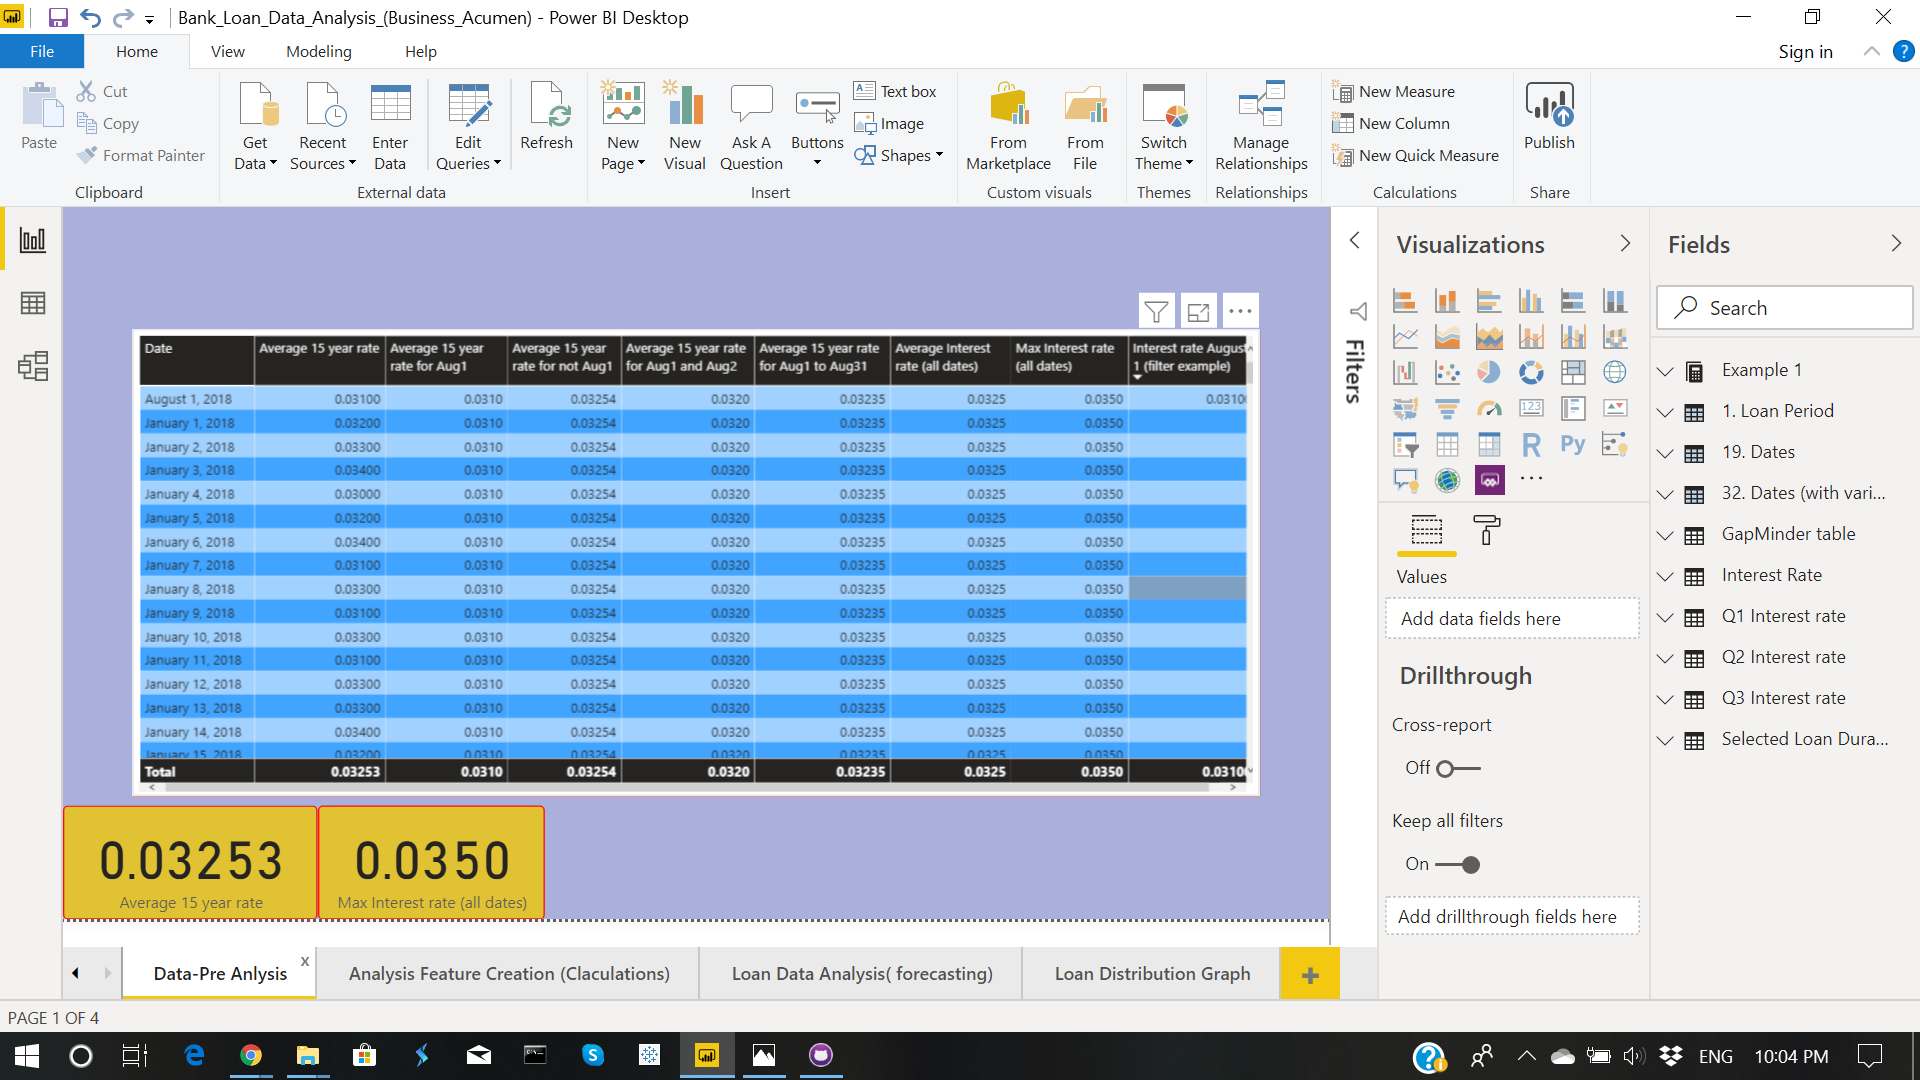

What the dashboard file says about the page in this screenshot:
{"tool":"powerbi","page":{"name":"Data-Pre Anlysis","canvas":[1280,720],"ordinal":0},"visuals":[{"type":"tableEx","fields":{"Values":["Interest Rate.Date","Interest Rate.Average 15 year rate","Interest Rate.Average 15 year rate for Aug1","Interest Rate.Average 15 year rate for not Aug1","Interest Rate.Average 15 year rate for Aug1 and Aug2","Interest Rate.Average 15 year rate for Aug1 to Aug31","Interest Rate.Average Interest rate (all dates)","Interest Rate.Max Interest rate (all dates)","Interest Rate.Interest rate August 1 (filter wxample)"]},"box":[69.8,122.8,1140.5,473.2],"z":0},{"type":"card","fields":{"Values":["Interest Rate.Average 15 year rate"]},"box":[0,604.9,257.4,115.2],"z":1000},{"type":"card","fields":{"Values":["Interest Rate.Max Interest rate (all dates)"]},"box":[257.8,605.1,229,115.3],"z":2000}]}

Visuals, with their boxes on the page's 1280x720 design canvas (x1, y1, x2, y2). These are canvas units, not pixel positions in the 1920x1080 screenshot, which may show the page scaled, cropped or inside an application window:
tableEx - Interest Rate.Date x Interest Rate.Average 15 year rate: select_region(70, 123, 1210, 596)
card - Interest Rate.Average 15 year rate: select_region(0, 605, 257, 720)
card - Interest Rate.Max Interest rate (all dates): select_region(258, 605, 487, 720)
